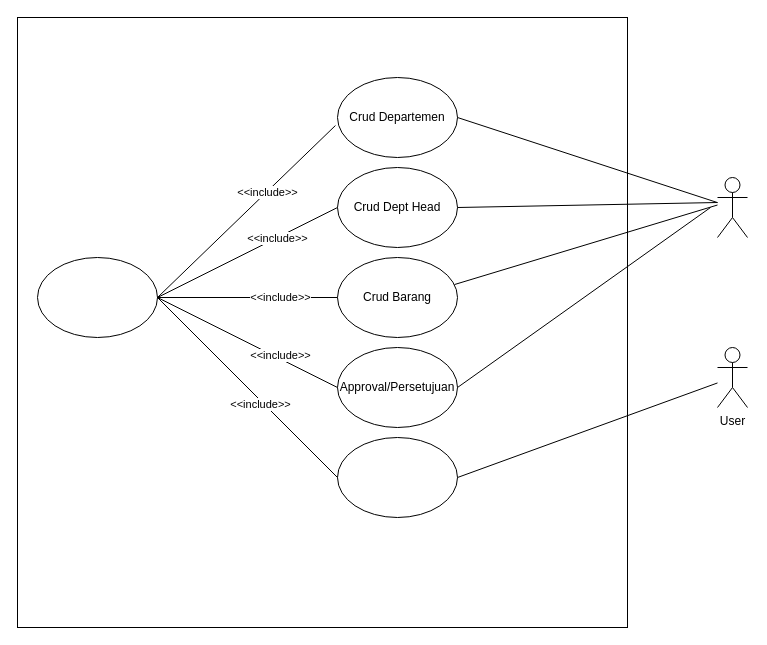
Some shapes in this 767 by 645 pixel diagram are drawn without their labels. Here are the shapes that lost their labels. From the top down, the centre of each, then its label:
At point 732,207: "Admin".
At point 97,297: "Login".
At point 397,477: "Membuat Permintaan".
